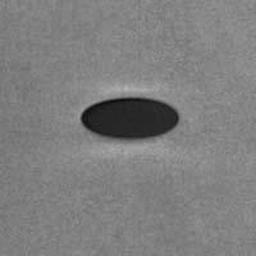Punching: (81, 97, 179, 140)
